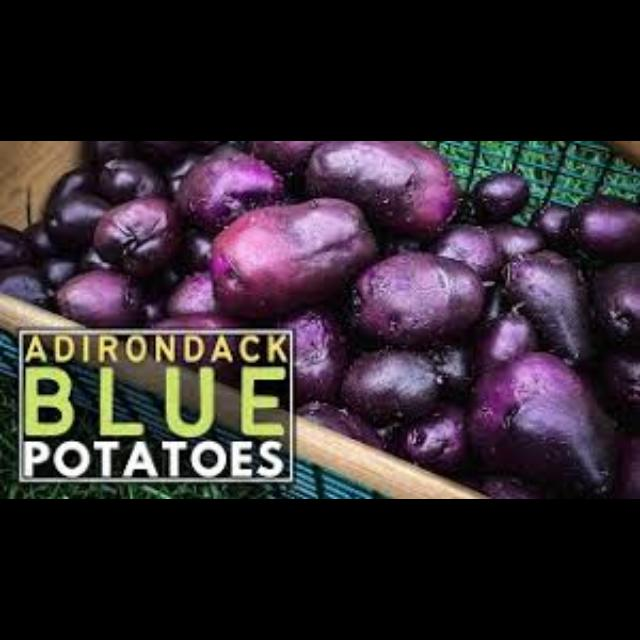Damaged potato: (460, 346, 618, 494), (91, 192, 191, 276)
Defected potato: (205, 196, 378, 316), (308, 142, 462, 240), (346, 251, 492, 345), (505, 254, 593, 366), (343, 354, 457, 422), (58, 271, 150, 331), (568, 192, 640, 266)
